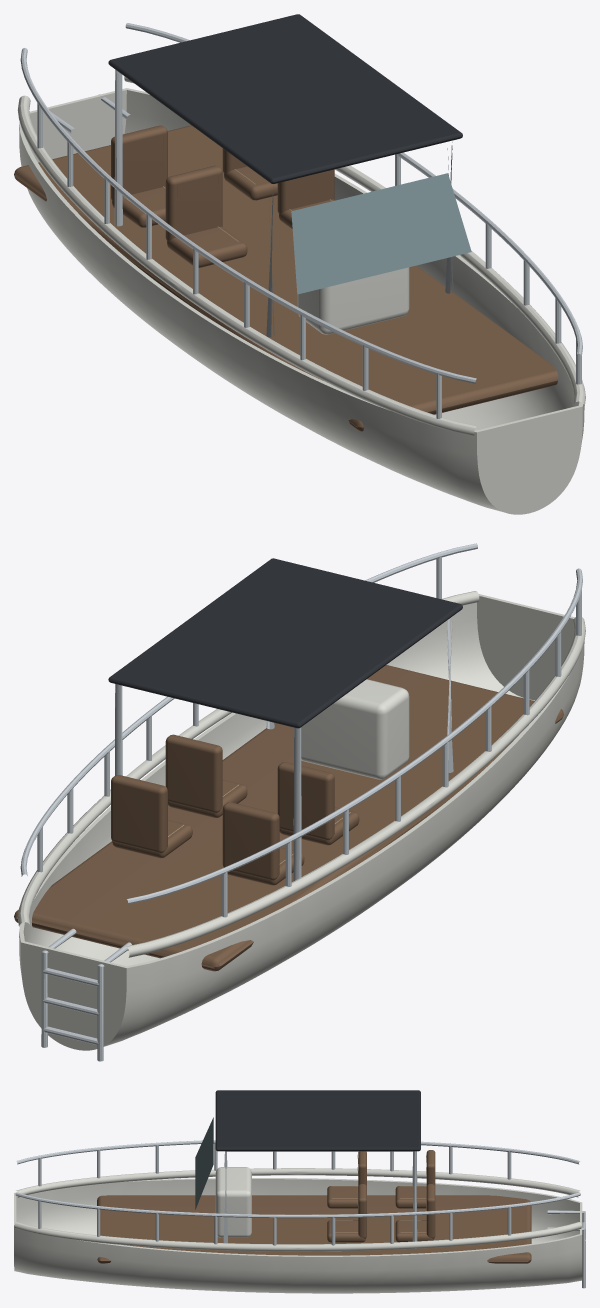
The model's file is boat.glb.
The picture shows the model from 3 angles, top to bottom: view 1: azimuth 30°, elevation 25°; view 2: azimuth 150°, elevation 25°; view 3: azimuth 270°, elevation 25°; orthographic projection. The views are drawn at different scales.
Parts seen in each view (by area): view 1: SweptHull, Deck, Canopy, Windshield, Gunwale, HelmConsole, SafetyRail, PassengerBack, PassengerBack.001, Gunwale.001, SafetyRail.001, PassengerCushion (+4 smaller); view 2: SweptHull, Deck, Canopy, HelmConsole, Gunwale, PassengerBack.002, PassengerBack.003, SafetyRail, PassengerBack.001, PassengerBack, Gunwale.001, SafetyRail.001 (+6 smaller); view 3: SweptHull, Deck, Canopy, Gunwale.001, Gunwale, SafetyRail.001, HelmConsole, SafetyRail, Windshield, CanopyPole.001, PassengerCushion, PassengerCushion.002 (+6 smaller).
Part boxes in pixels (box(x1,y1,x2,y2)): SweptHull: box(19, 88, 584, 514); Deck: box(14, 125, 558, 431); Canopy: box(108, 14, 462, 183); Windshield: box(291, 173, 471, 294); Gunwale: box(17, 95, 477, 436); HelmConsole: box(297, 267, 409, 334); SafetyRail: box(20, 48, 476, 383); PassengerBack: box(165, 165, 222, 240); PassengerBack.001: box(111, 125, 167, 200); Gunwale.001: box(124, 76, 585, 405); SafetyRail.001: box(125, 23, 582, 355); PassengerCushion: box(167, 226, 247, 267); SweptHull: box(19, 594, 584, 1050); Deck: box(14, 665, 563, 971); Canopy: box(108, 558, 462, 728); HelmConsole: box(301, 679, 409, 779); Gunwale: box(126, 617, 585, 957); PassengerBack.002: box(165, 734, 222, 812); PassengerBack.003: box(111, 775, 167, 853); SafetyRail: box(126, 568, 582, 904); PassengerBack.001: box(222, 802, 279, 880); PassengerBack: box(277, 762, 334, 840); Gunwale.001: box(17, 591, 479, 926); SafetyRail.001: box(20, 543, 477, 876); SweptHull: box(14, 1178, 582, 1293); Deck: box(97, 1195, 531, 1263); Canopy: box(215, 1090, 420, 1151); Gunwale.001: box(14, 1222, 581, 1251); Gunwale: box(16, 1168, 580, 1197); SafetyRail.001: box(15, 1192, 580, 1218); HelmConsole: box(215, 1167, 251, 1237); SafetyRail: box(16, 1140, 579, 1164); Windshield: box(195, 1117, 213, 1209); CanopyPole.001: box(223, 1151, 417, 1248); PassengerCushion: box(327, 1186, 358, 1208); PassengerCushion.002: box(327, 1220, 365, 1242).
Bounding box in the file's own units: 2.33 × 2.2 × 7.11.
